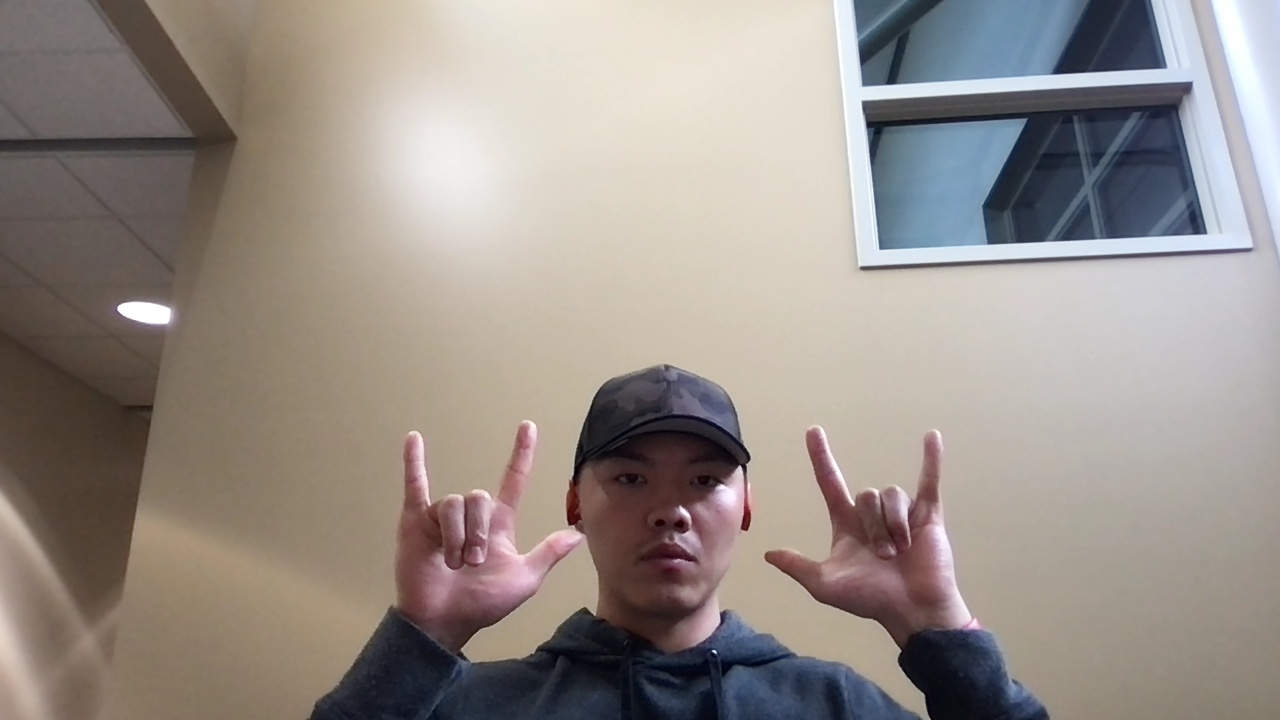I Love You: (762, 421, 974, 623), (395, 418, 583, 639)
